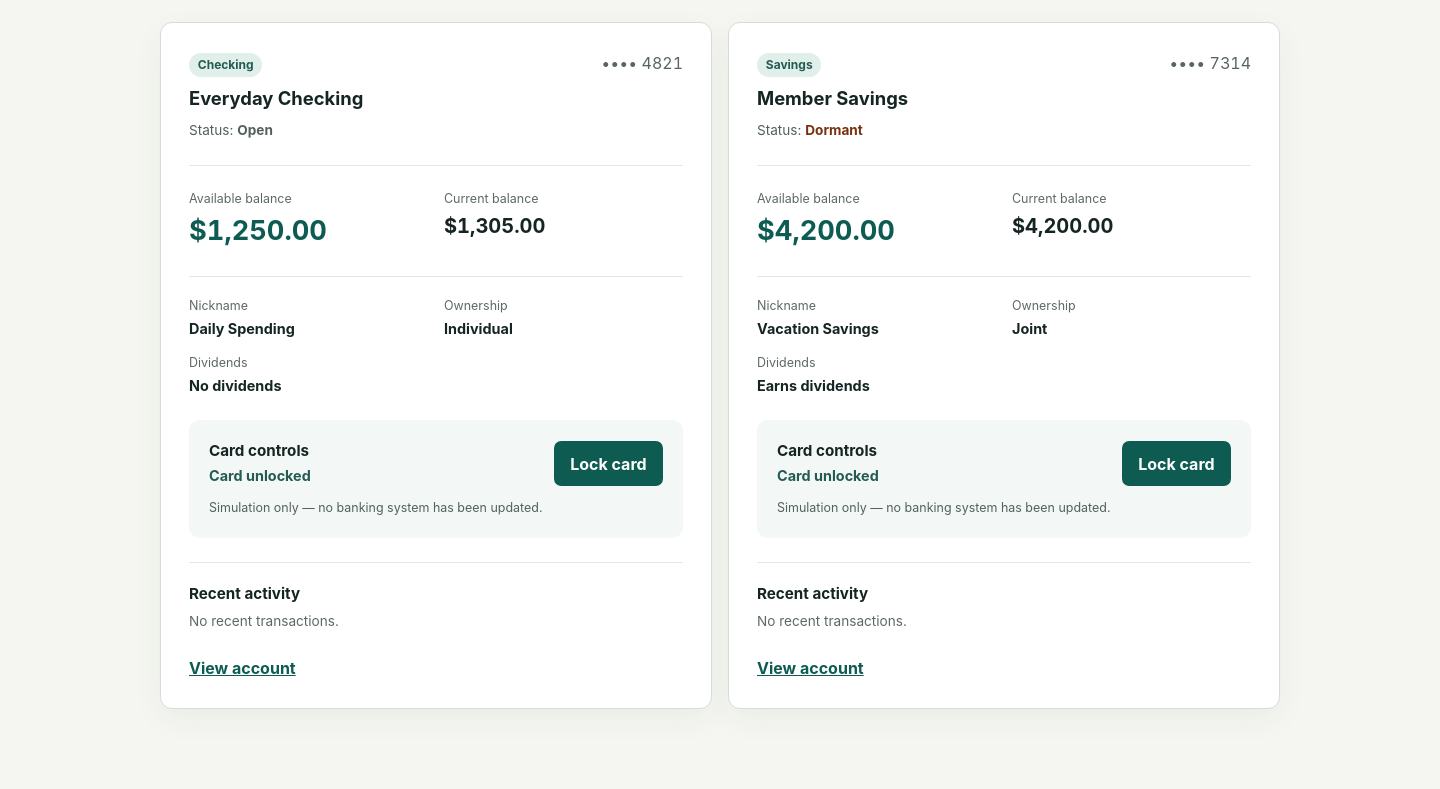
local card lock simulation › changes an unlocked card to locked through member interaction
(page scrolled)
Expected: the text "Card unlocked" below "No dividends" is shown, [209,467,311,484]
Click the button named "Lock card for Everyday Checking". click: {"x": 608, "y": 464}
box: [554,441,663,486]
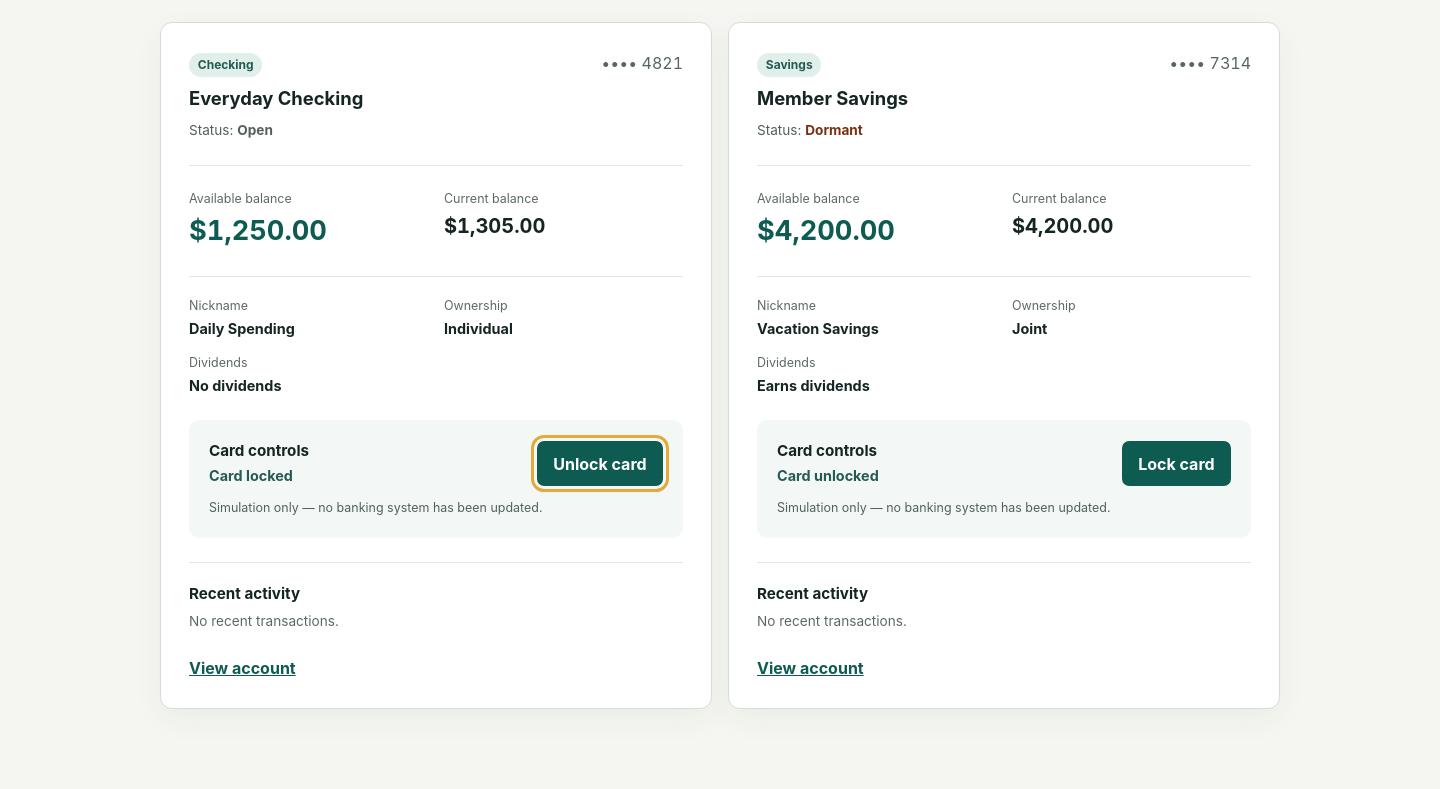
Now the text "Card locked" is shown, box [209,467,293,484]
Now the button named "Unlock card for Everyday Checking" is shown, box [537,441,663,486]
